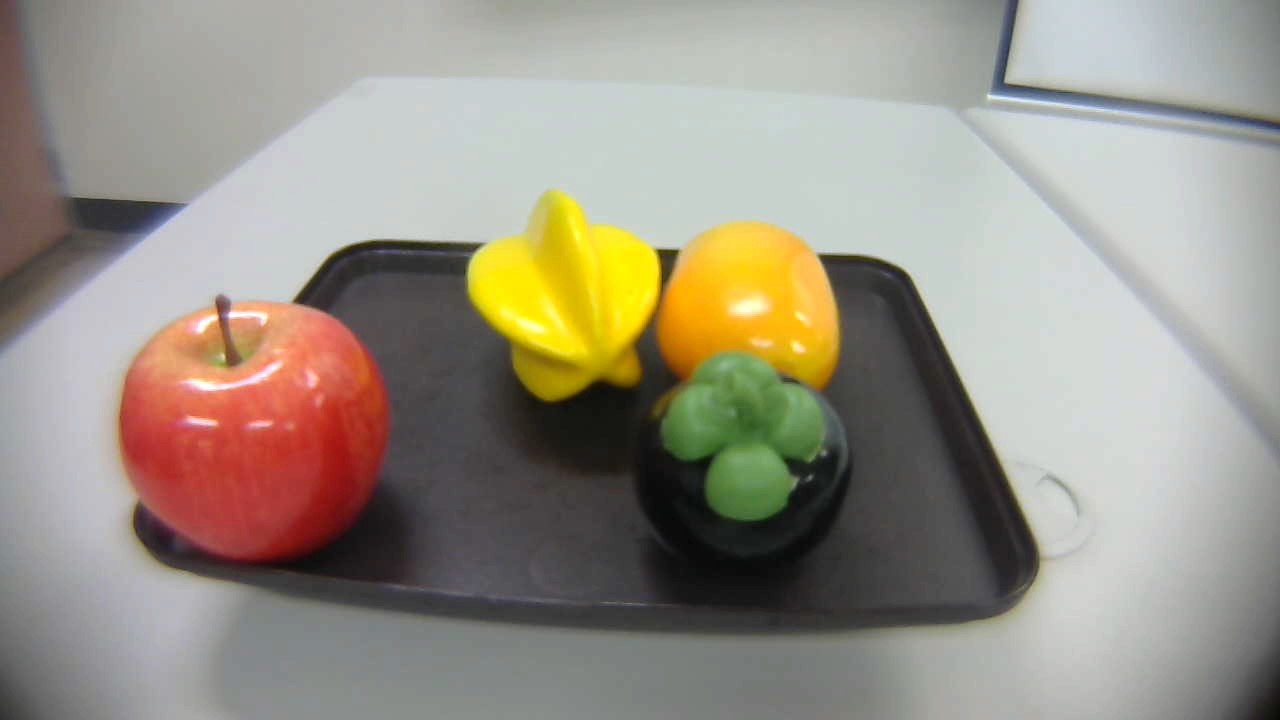mangosteen: (622, 353, 878, 593)
red apple: (115, 283, 402, 579)
star fruit: (448, 178, 692, 423)
yellow mango: (652, 219, 850, 416)
